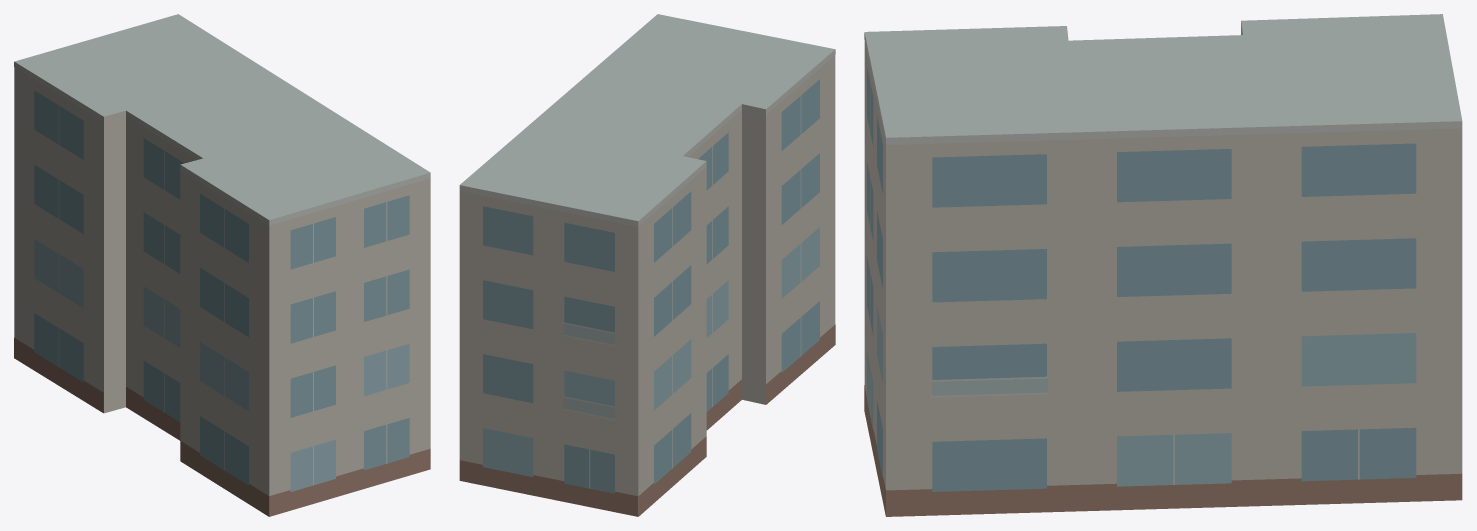
File: survey-upis-32525693.glb
3 renders of one model, left to right at view 1: azimuth 30°, elevation 25°; view 2: azimuth 150°, elevation 25°; view 3: azimuth 270°, elevation 25°, orthographic. The views are drawn at different scales.
Parts seen in each view (by area): view 1: survey-upis-32525693.tmp; view 2: survey-upis-32525693.tmp; view 3: survey-upis-32525693.tmp.
Boxes of the visible parts, x1,y1,x2,y2 form: survey-upis-32525693.tmp: (14,14,430,516); survey-upis-32525693.tmp: (459,14,835,516); survey-upis-32525693.tmp: (864,14,1462,516).
Bounding box in the file's own units: 9.15 × 13.05 × 18.67.
